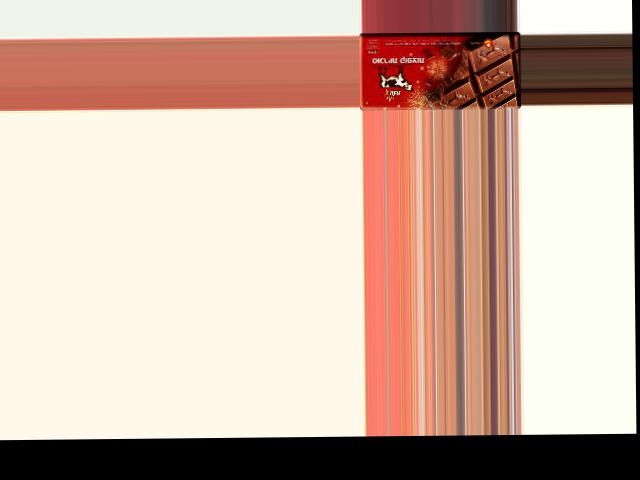chocolate: (358, 32, 520, 109)
